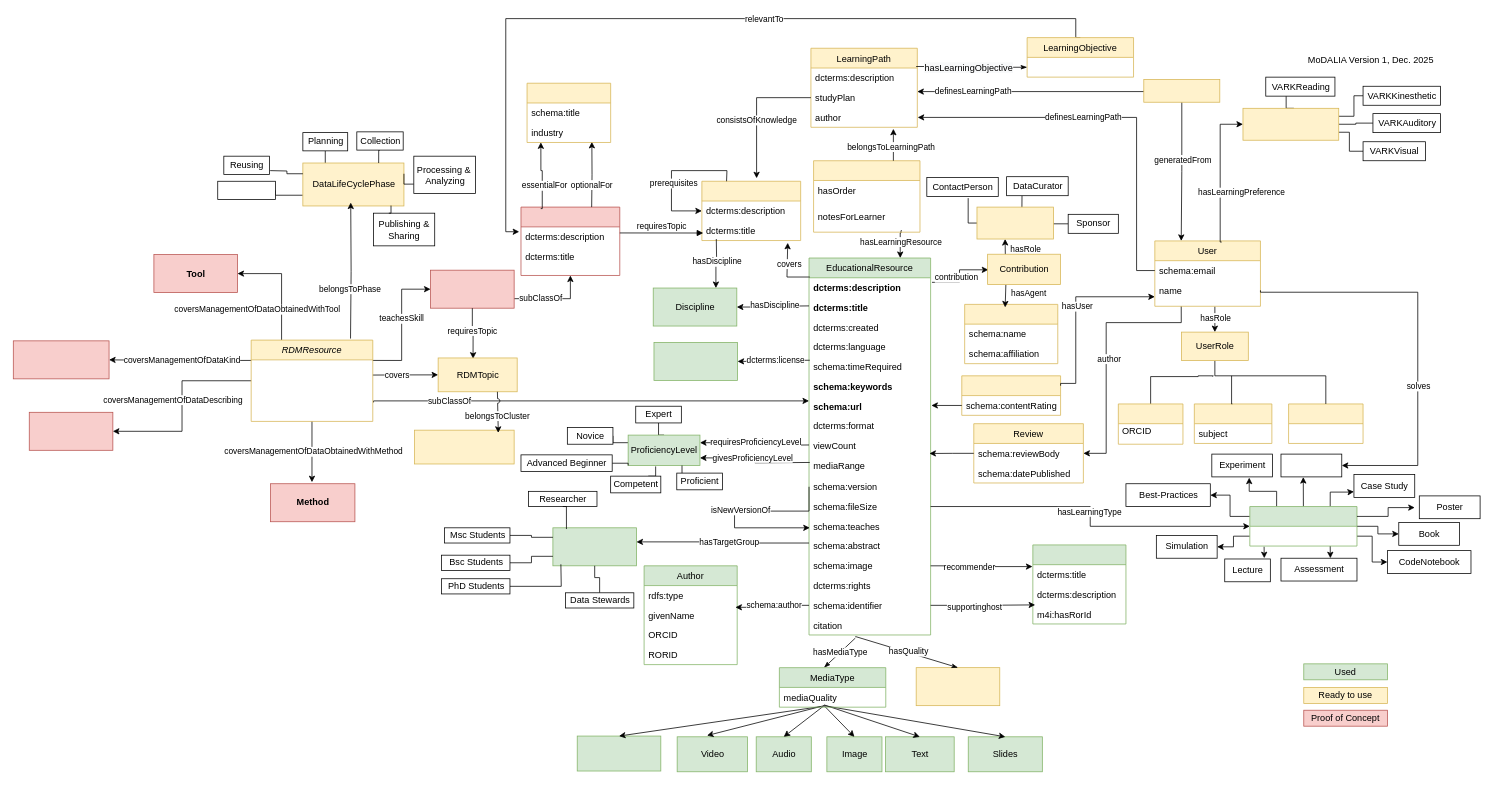
Image size: 1493x785. Some labels were removed from this diagram. The shapes that lost their labels are listed below. From the top down, each one's box as (x1, y1, x2, y2) in pixels, then its label:
(1143, 79, 1220, 102): Recommendation
(526, 82, 611, 142): Job
(1242, 108, 1339, 140): LearningPreference
(217, 180, 276, 200): Preservation
(813, 160, 920, 232): LearningPathStep
(701, 180, 801, 241): KnowledgeTopic
(976, 206, 1054, 239): ContributorRole
(520, 206, 620, 276): Skill
(430, 269, 514, 308): RDMSkill
(964, 304, 1058, 364): Contributor
(13, 340, 109, 379): Data
(653, 342, 738, 380): License
(961, 375, 1061, 415): RatingIndicator
(28, 412, 113, 450): Object
(1118, 403, 1183, 444): Teacher
(1194, 403, 1272, 443): Curator
(1288, 403, 1363, 443): Learner
(414, 429, 514, 464): RDMSubjectCluster
(1280, 453, 1342, 477): Questionnaire
(1249, 506, 1357, 546): LearningResourceType
(552, 527, 636, 566): TargetGroup
(1032, 544, 1126, 624): Community
(915, 667, 1000, 706): ContentQuality
(576, 735, 661, 771): Code
